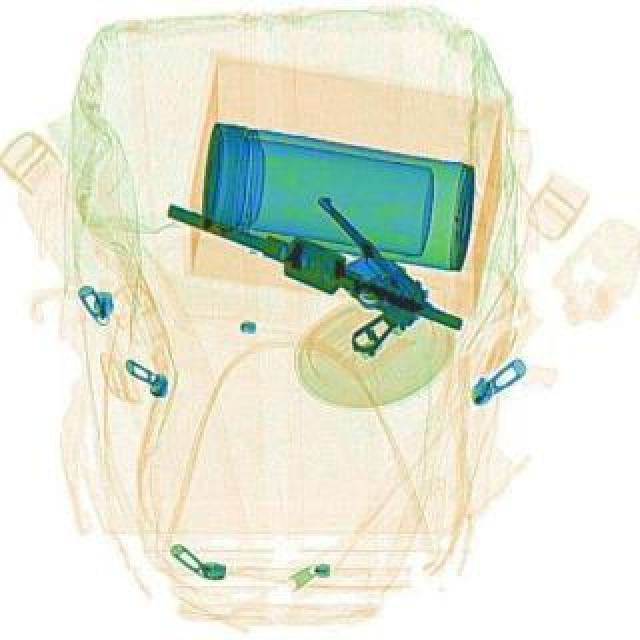gun: (258, 184, 446, 362)
